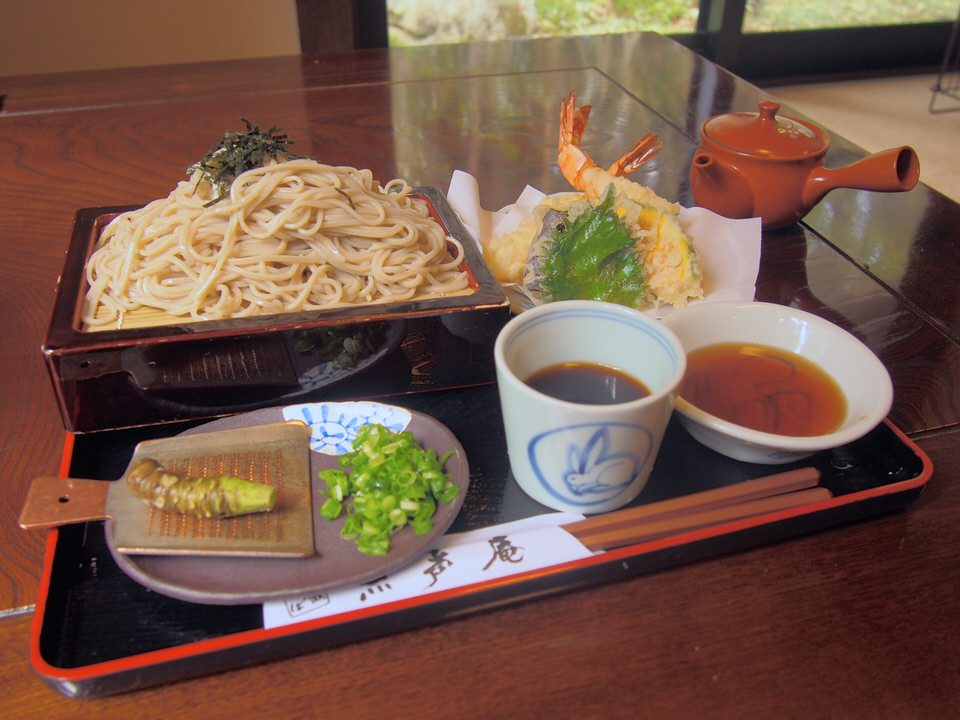Soba: (80, 141, 464, 319)
